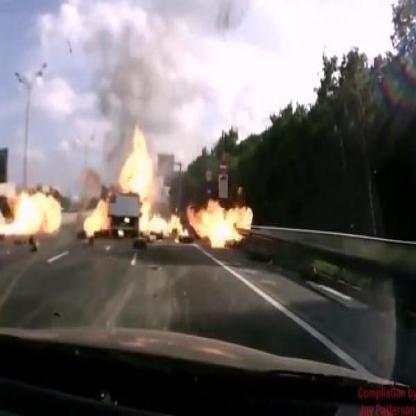fire: (78, 118, 185, 250), (0, 180, 66, 248), (187, 196, 257, 254)
